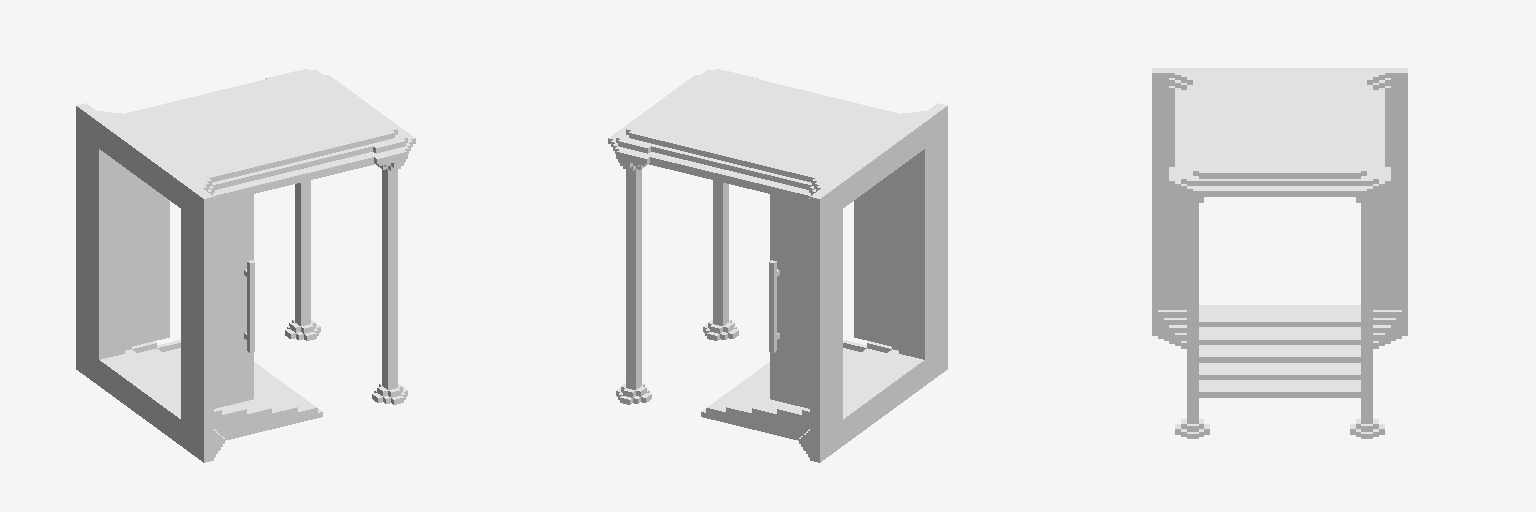
File: Stairs.obj
The picture shows the model from 3 angles: view 1: azimuth 30°, elevation 25°; view 2: azimuth 150°, elevation 25°; view 3: azimuth 270°, elevation 25°; orthographic projection.
Visible parts, largest first — view 1: object 1; view 2: object 1; view 3: object 1.
Part boxes in pixels (x1,y1,x2,y2): object 1: (76,69,415,462); object 1: (608,69,947,462); object 1: (1152,68,1407,438).
Size of the model in its own units: 4.6 by 5 by 4.4.